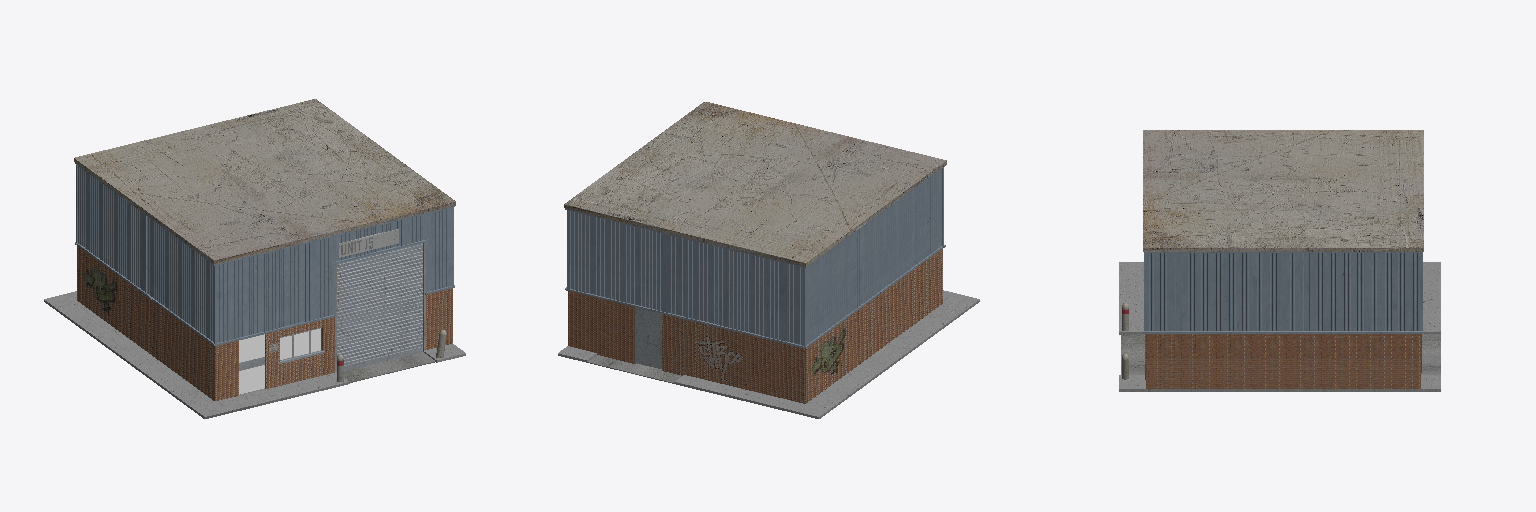
3 renders of one model, left to right at view 1: azimuth 30°, elevation 25°; view 2: azimuth 150°, elevation 25°; view 3: azimuth 270°, elevation 25°, orthographic.
Parts seen in each view (by area): view 1: Building, Path, LeftDoor2, LeftDoor3, RightDoor; view 2: Building, Path; view 3: Building, Path.
Boxes of the visible parts, box(x1,y1,x2,y2) form: Building: box(74, 99, 455, 400); Path: box(44, 291, 465, 418); LeftDoor2: box(337, 288, 422, 364); LeftDoor3: box(337, 243, 422, 308); RightDoor: box(239, 334, 264, 394); Building: box(564, 102, 946, 403); Path: box(558, 290, 979, 418); Building: box(1143, 130, 1423, 388); Path: box(1119, 262, 1440, 391).
Bounding box in the file's own units: 4.28 × 2.25 × 4.53.
14 materials, 9 textured.